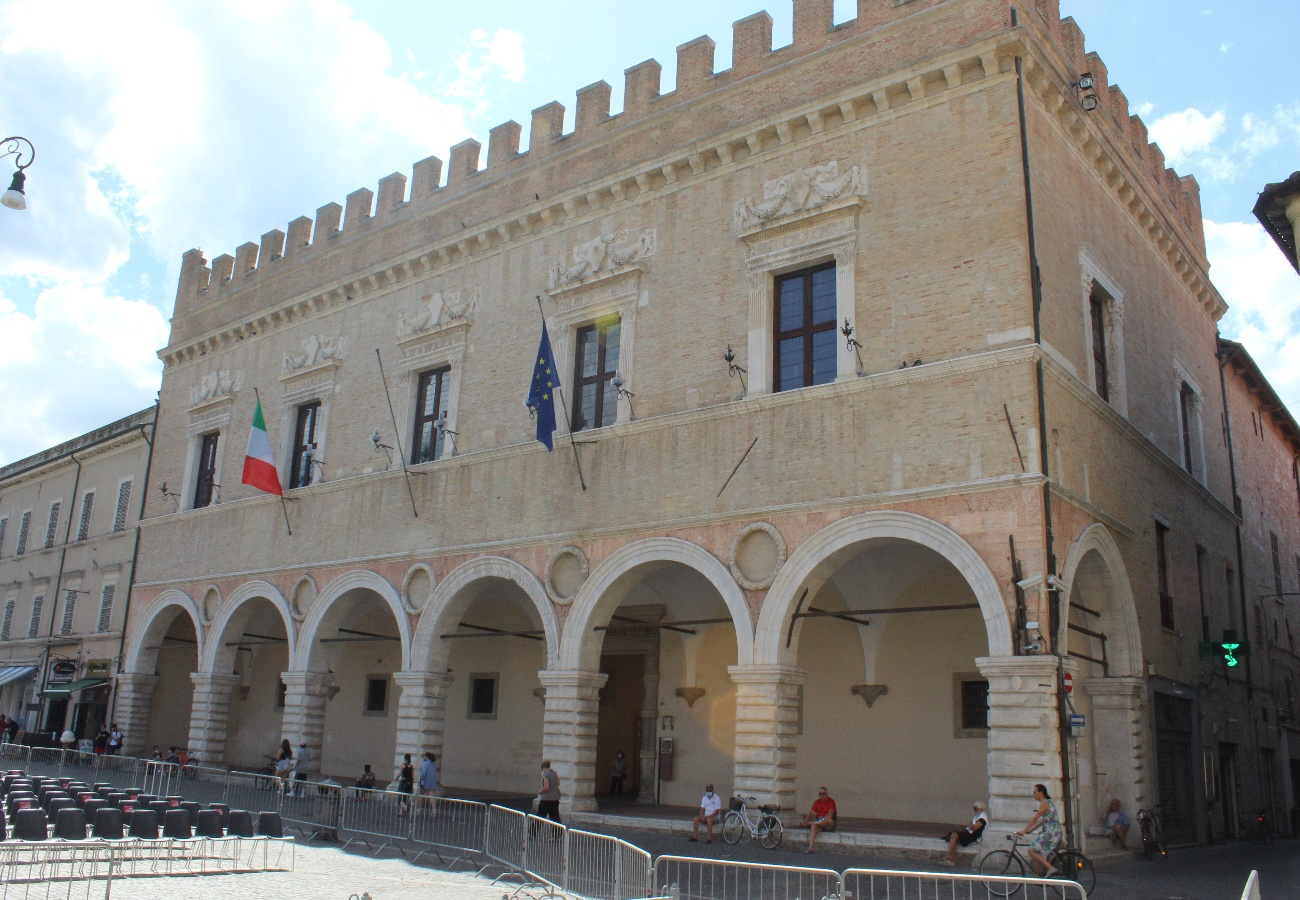Palazzo Ducale: (143, 1, 1071, 859)
